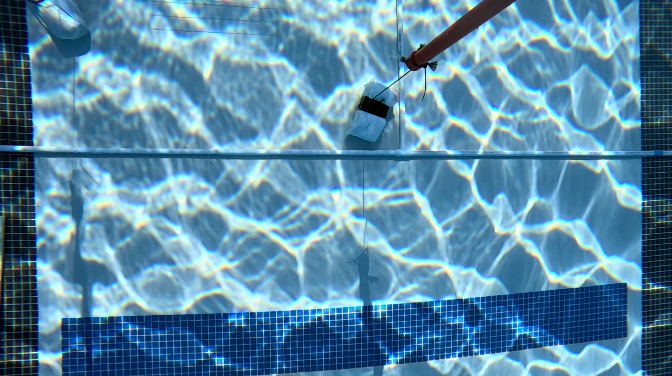sandbag: (346, 80, 397, 143)
